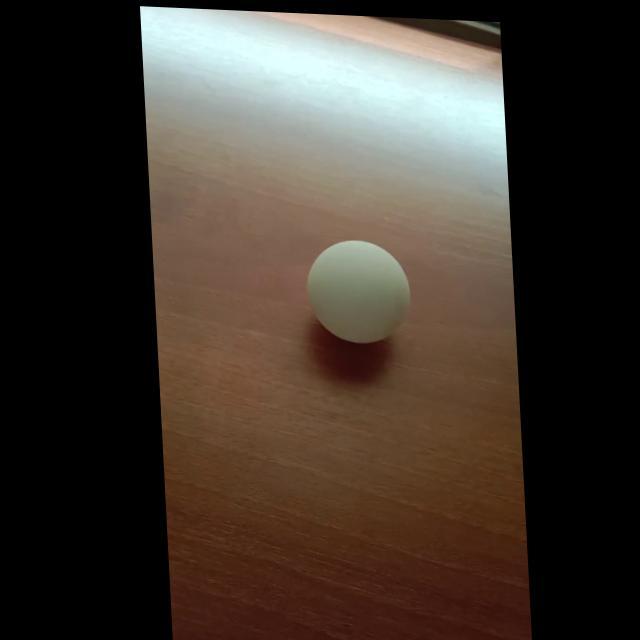white ball: (304, 236, 413, 346)
